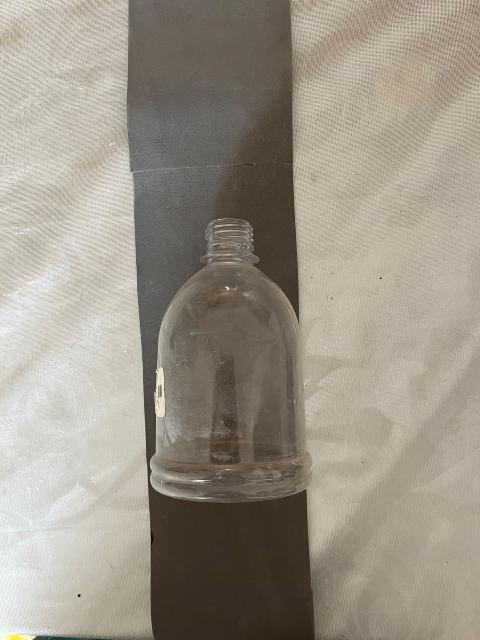PET: (99, 190, 379, 580)
